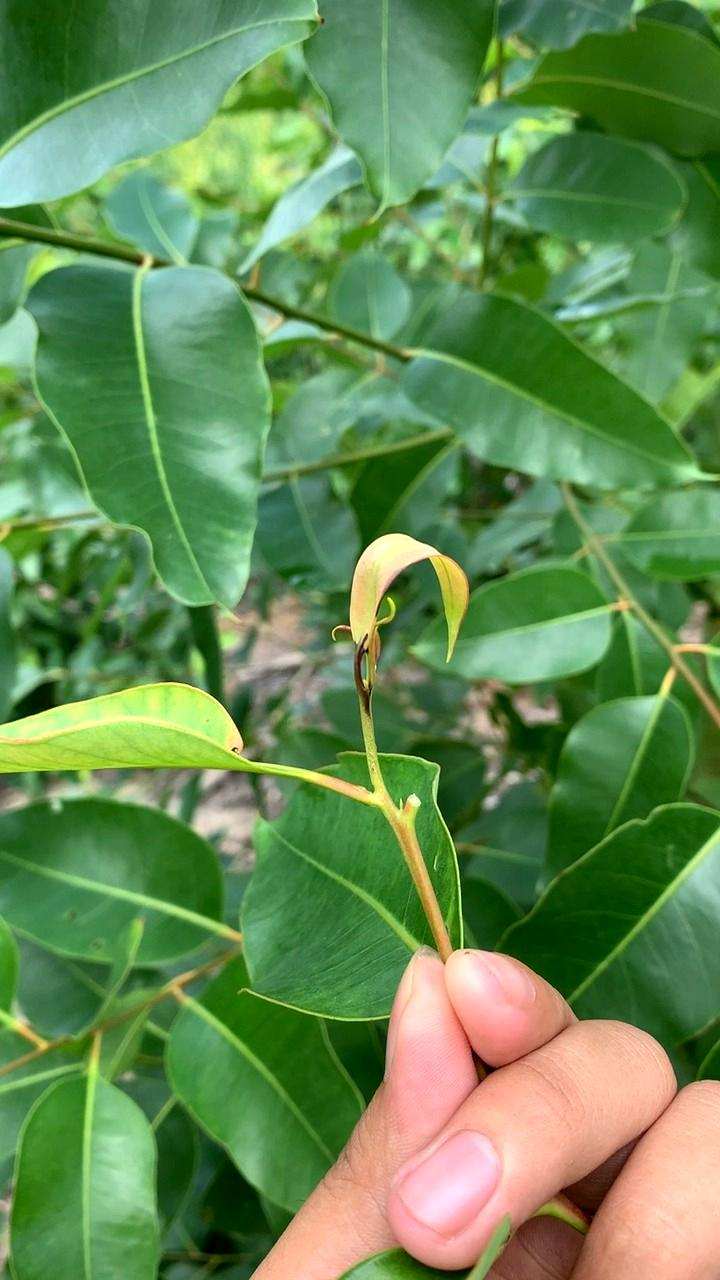Helopeltis-Withered Sprout: (318, 520, 481, 725)
